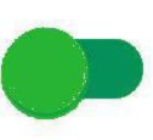Switch: (1, 1, 152, 139)
